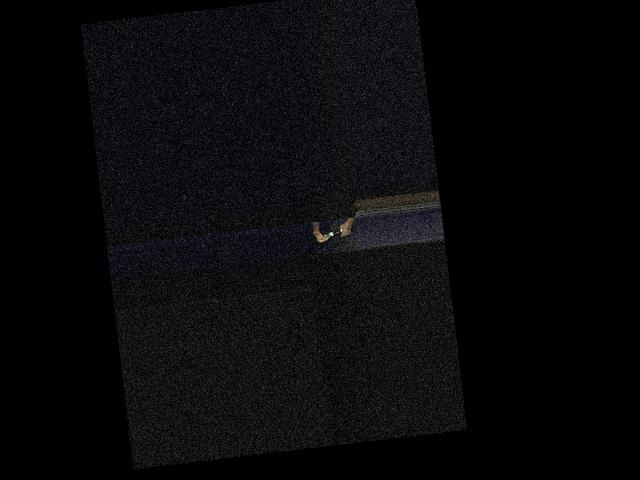beer: (324, 224, 354, 237)
